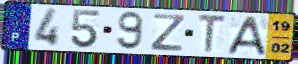4: (32, 7, 62, 49)
5: (69, 8, 102, 50)
9: (116, 10, 146, 52)
A: (225, 15, 268, 56)
T: (197, 13, 228, 55)
Z: (148, 12, 187, 53)
